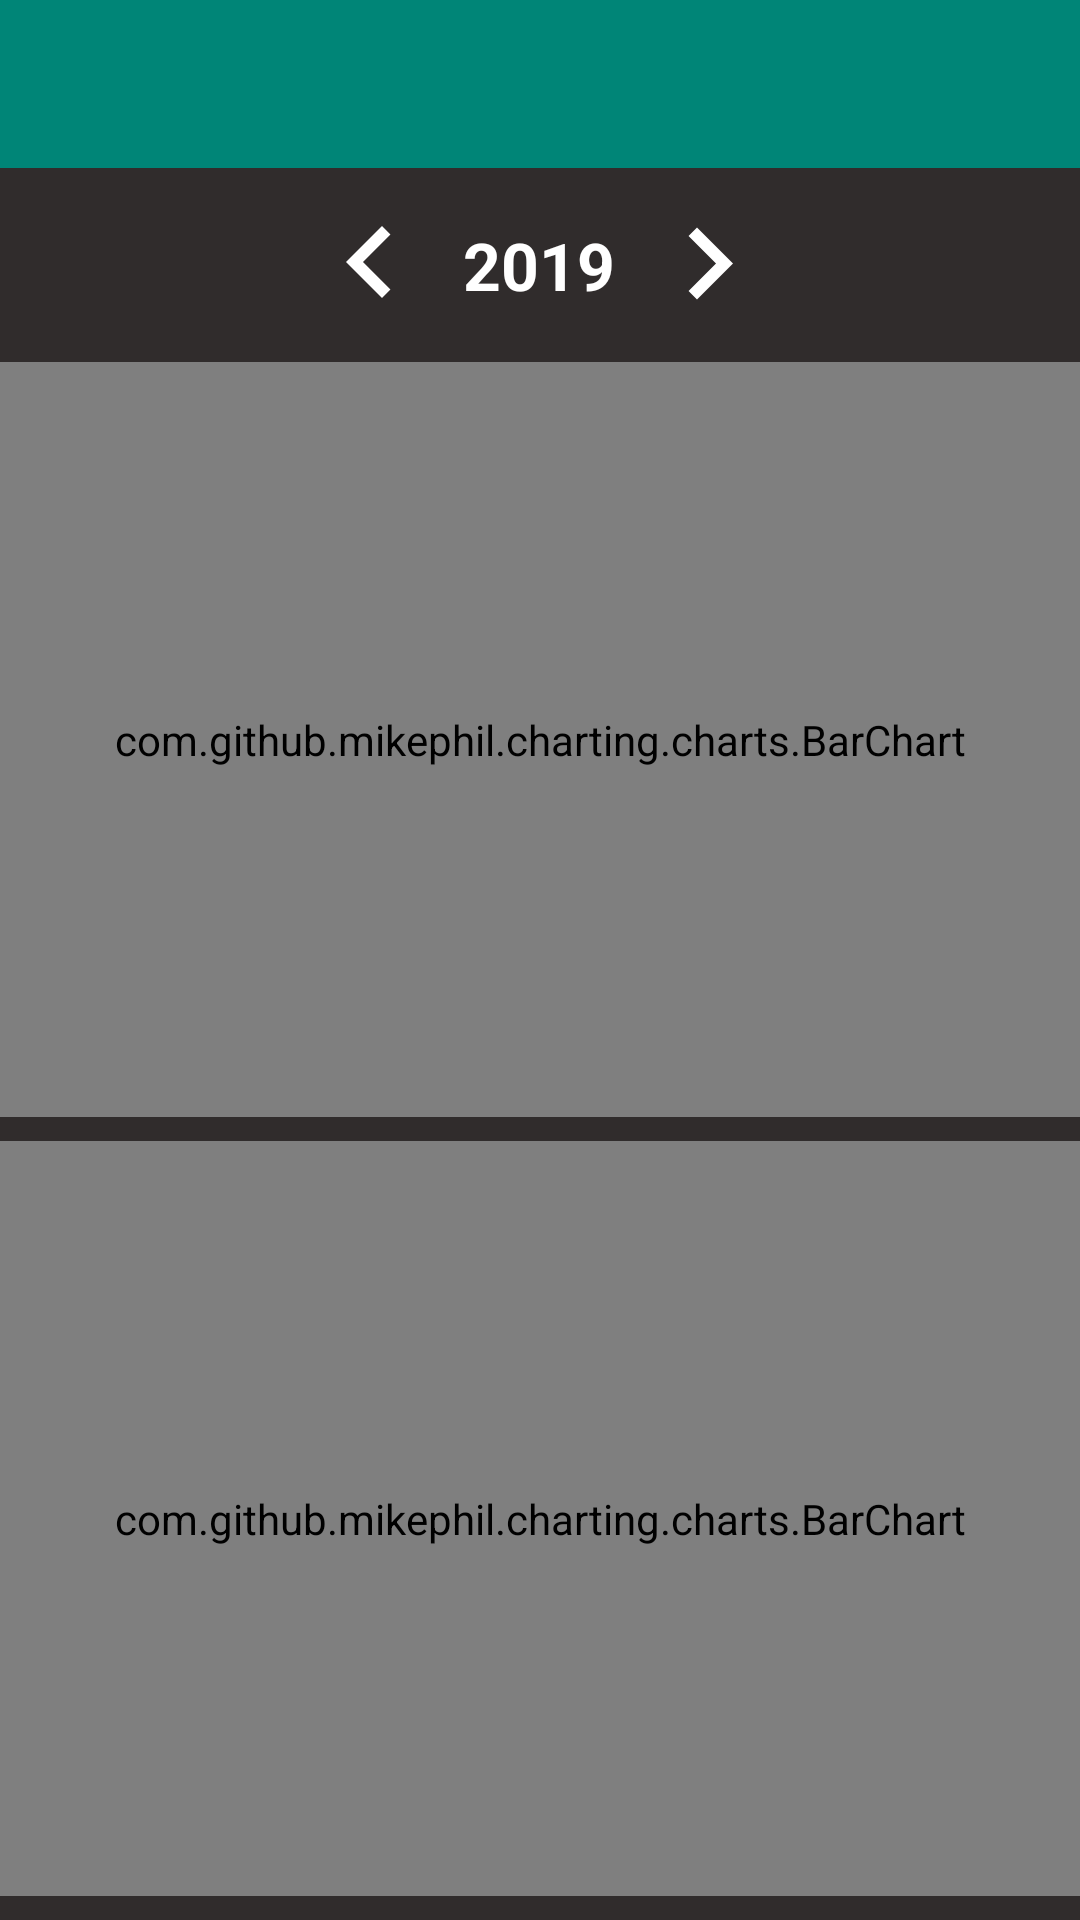

Where to tap for icons on this 1080px x 1920px app screen, as point (x, y):
left arrow: point (368, 262)
right arrow: point (711, 263)
